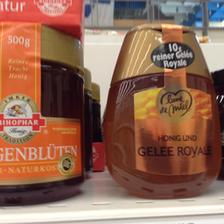Honig: (101, 22, 223, 200), (0, 20, 84, 204)
